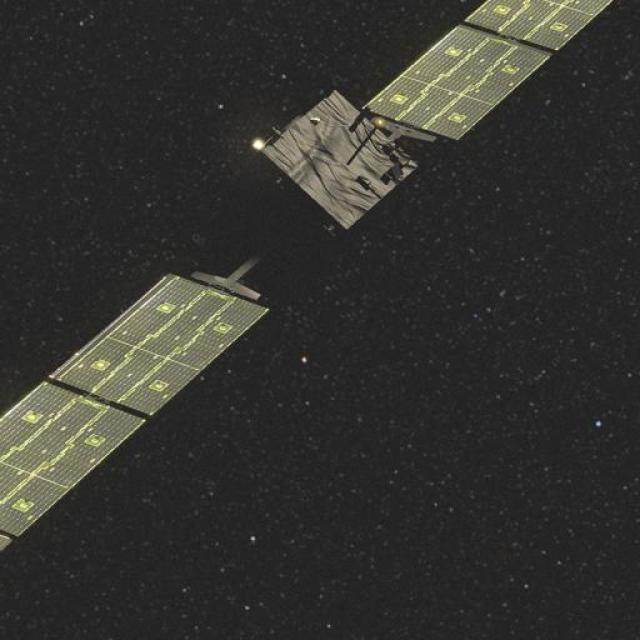smart_1: (177, 39, 399, 343)
